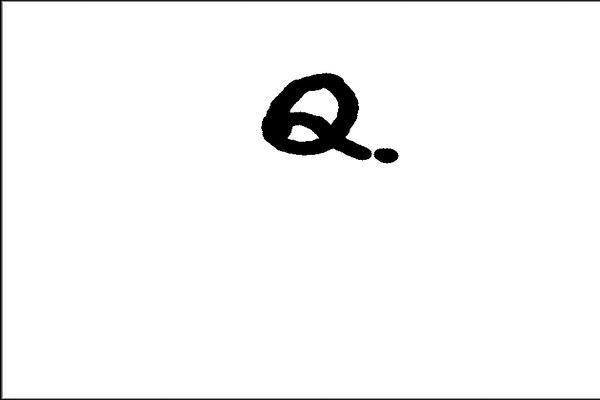Q: (251, 65, 375, 173)
